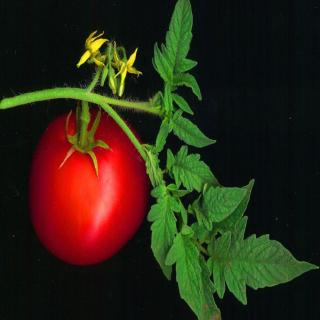tomato: (27, 108, 152, 264)
